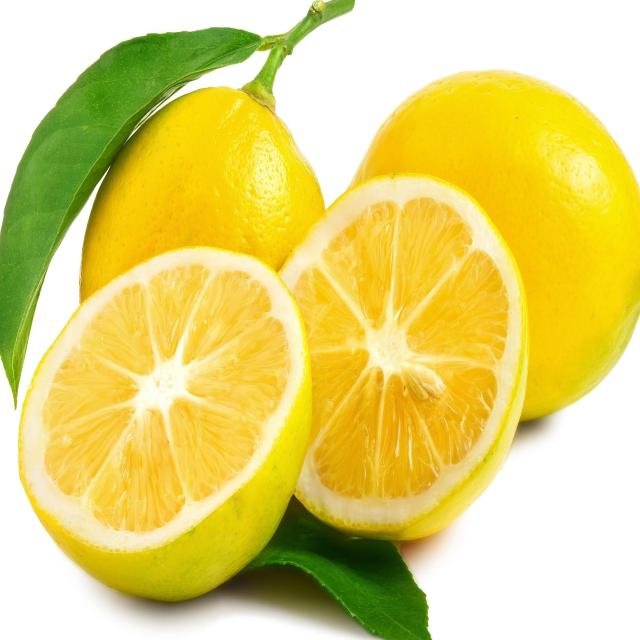lemon: (15, 235, 316, 607), (269, 166, 532, 541)
